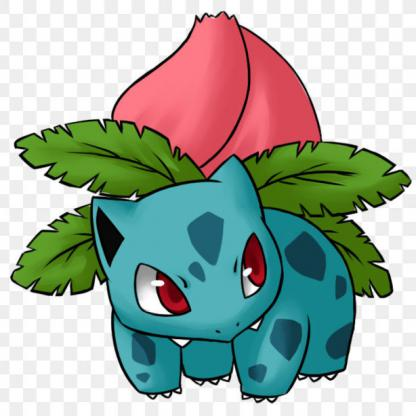Ivysaur: (11, 29, 416, 408)
